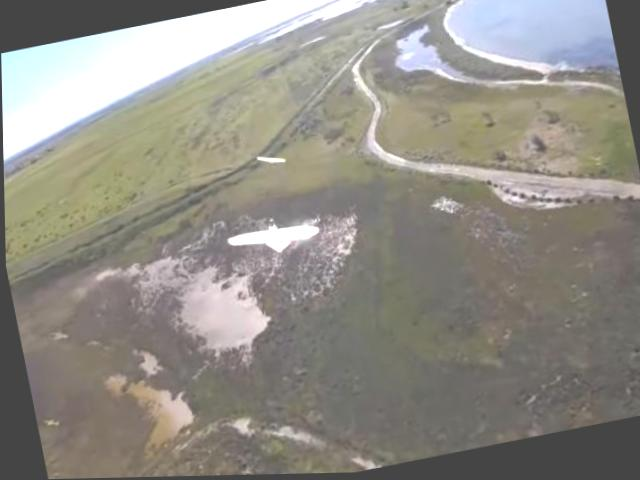uav: (221, 211, 323, 270), (251, 148, 289, 171)
